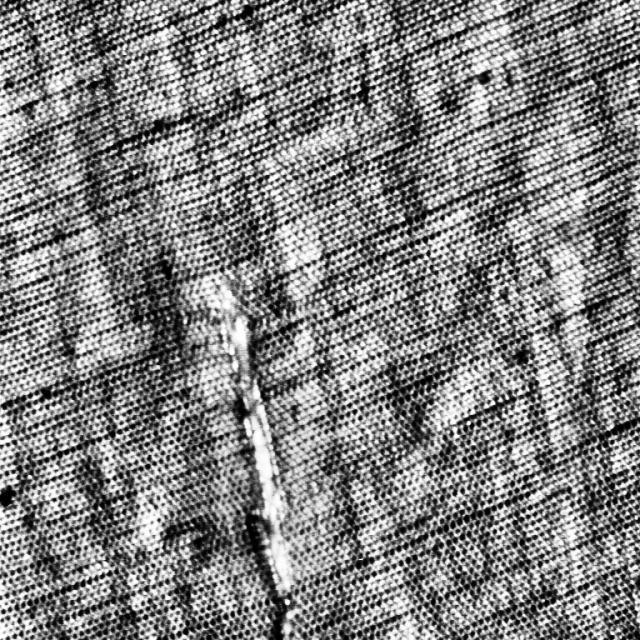gray stitch: (204, 273, 299, 639)
